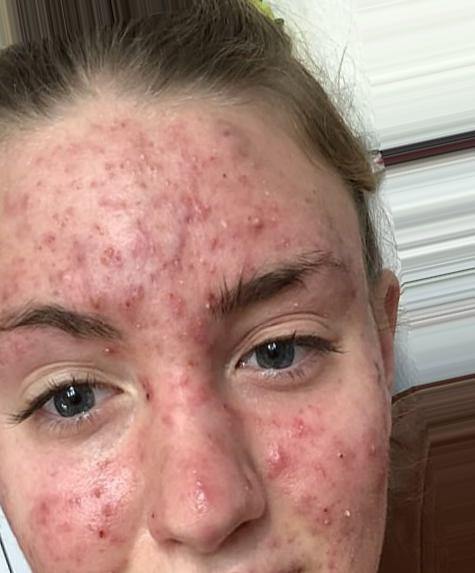Acne: (70, 483, 130, 548), (259, 419, 298, 490), (335, 425, 387, 468), (240, 203, 289, 241), (120, 283, 148, 307)
